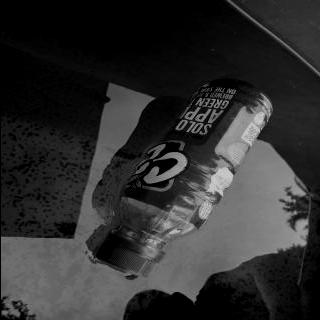bottle: (93, 76, 276, 279)
